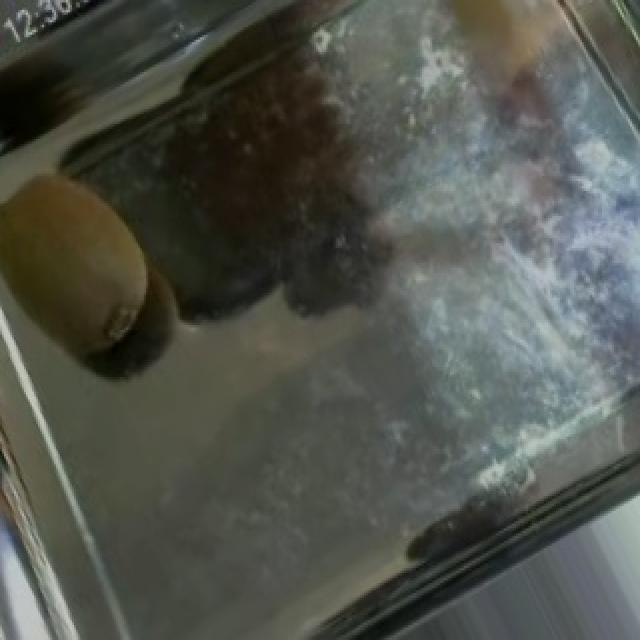Fruit: (0, 141, 184, 392)
